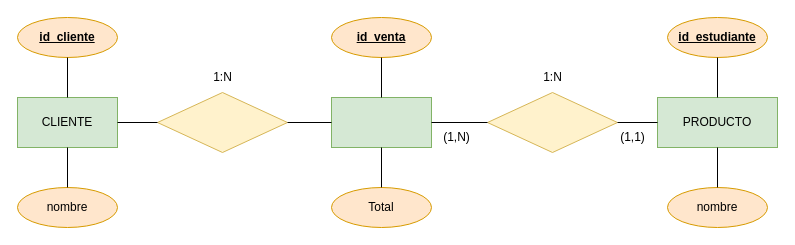
Image size: 795x245. Some labels were removed from this diagram. Here are the shapes that lost their labels. From the top down, the centre of each, then its label:
the point at 222,122: hacen
the point at 381,122: VENTA
the point at 552,122: tienen
